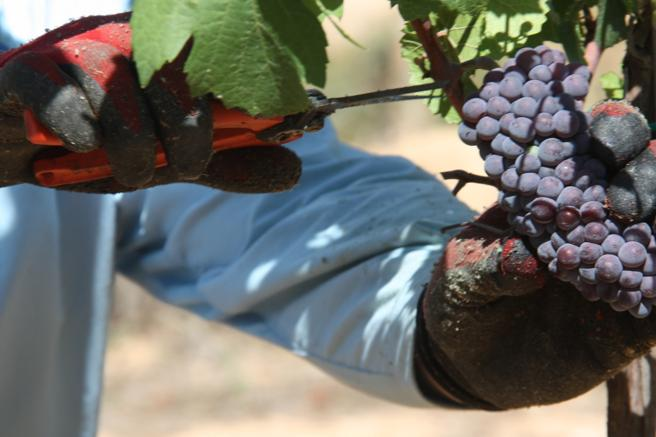Black grapes: (449, 41, 656, 318)
